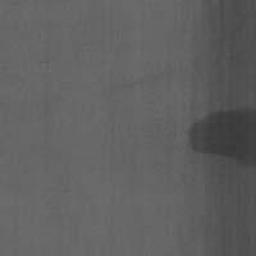Oil spot: (187, 105, 256, 168)
